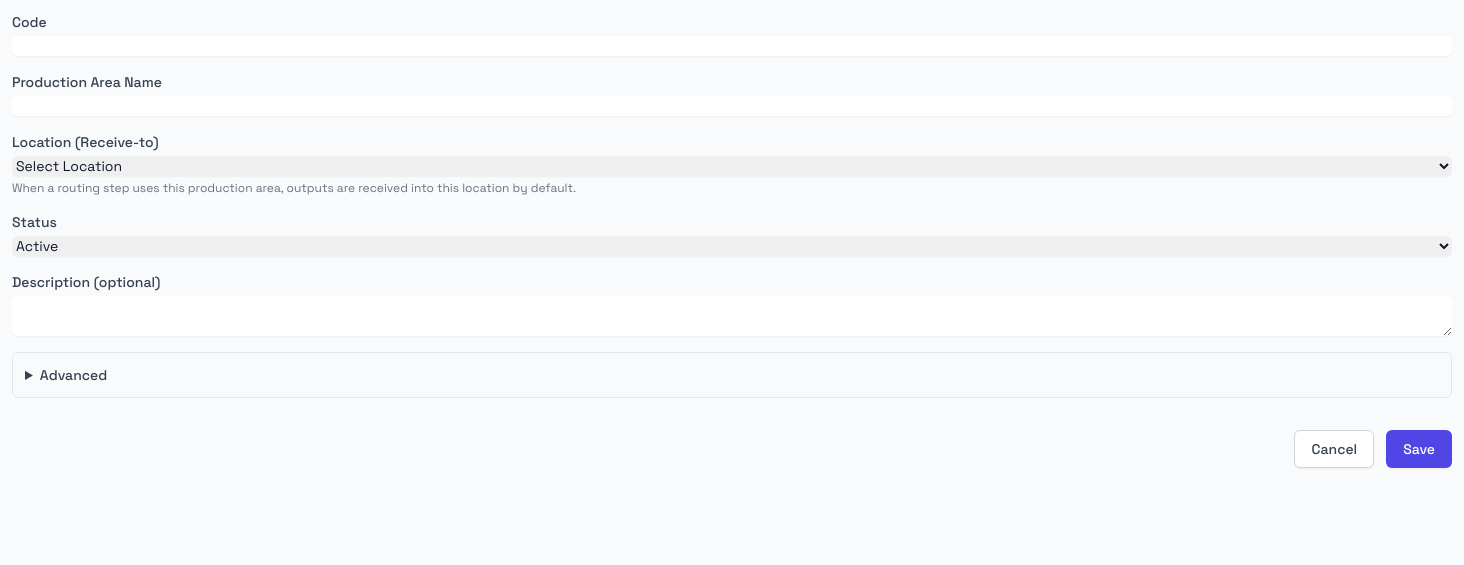
it: WorkCenterForm › toggles advanced section
expect the text "Advanced" is shown: met, box [12,352,1452,398]
What coordinates should you click on to do the following:
click the heading "Advanced"
I would click on:
 (74, 375)
Its box is [40,366,107,384].
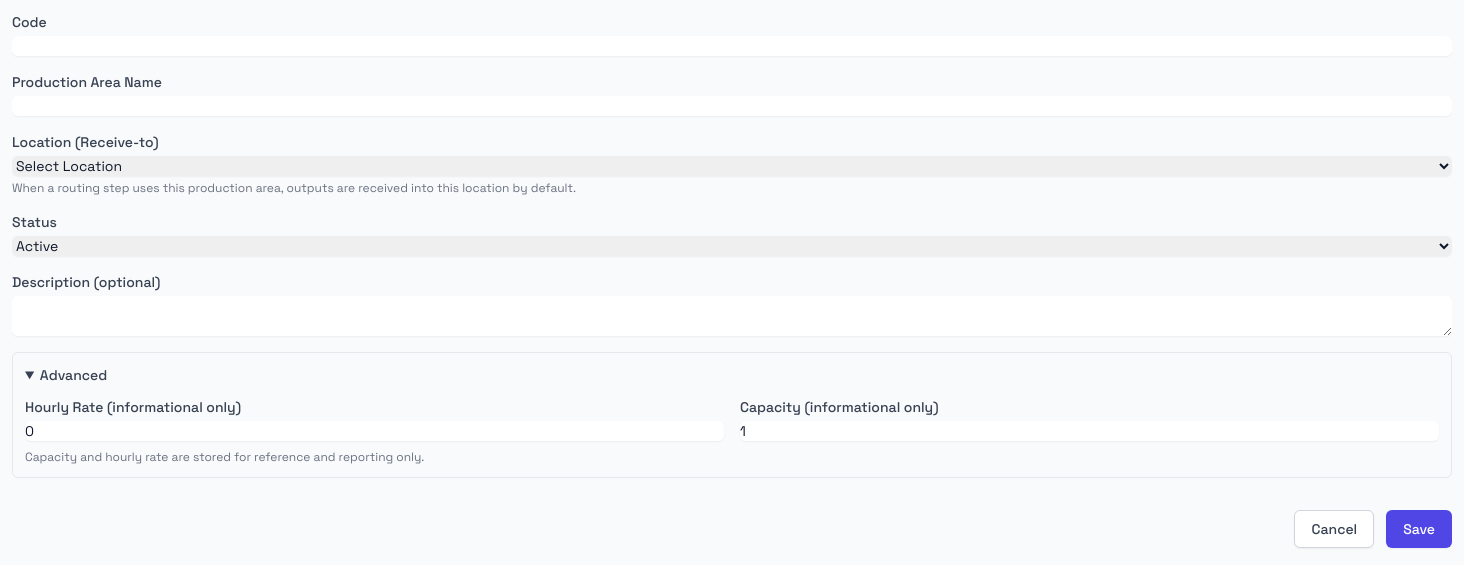
expect the text "Hourly Rate (informational only)" is shown: met, box [25,398,241,416]
expect the text "Capacity (informational only)" is shown: met, box [740,398,939,416]
